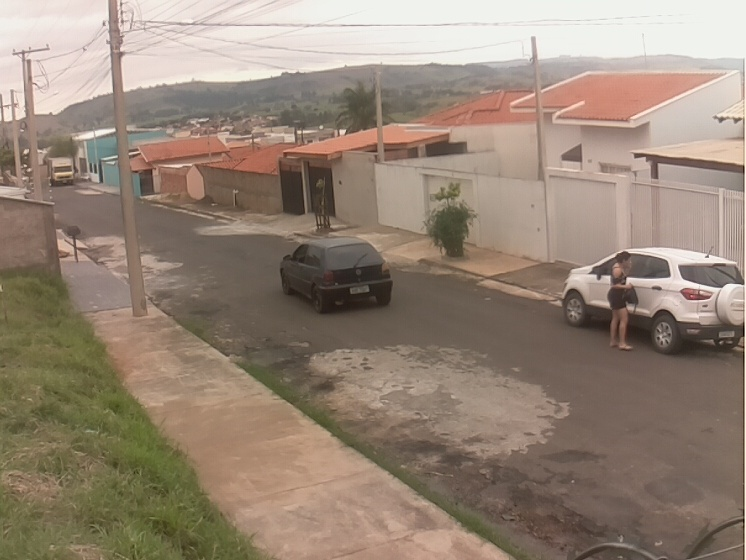person: (607, 251, 638, 353)
